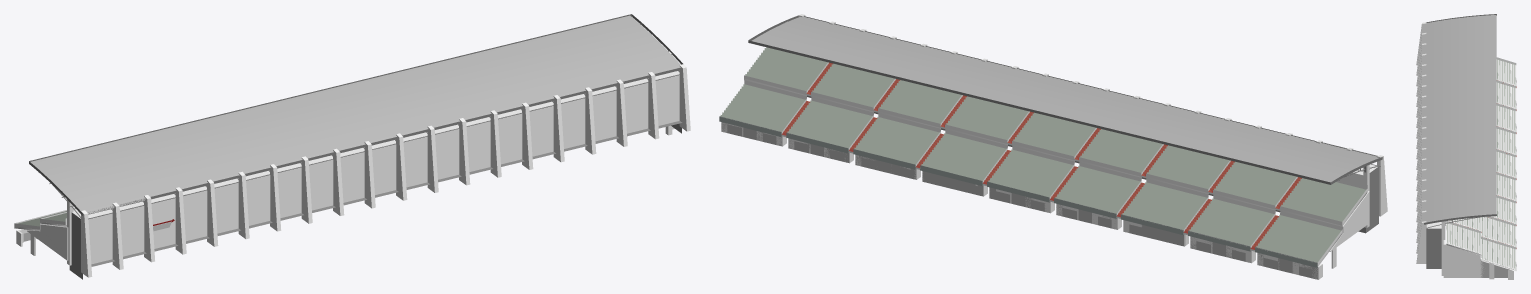
File: grandstand_main.dae
3 renders of one model, left to right at view 1: azimuth 30°, elevation 25°; view 2: azimuth 150°, elevation 25°; view 3: azimuth 270°, elevation 25°, orthographic. The views are drawn at different scales.
Visible parts, largest first — view 1: grandstand_main_a1000, grandstand_main_a2000; view 2: grandstand_main_a1000, grandstand_main_a2000, grandstand_main_a500; view 3: grandstand_main_a1000, grandstand_main_a2000, grandstand_main_a500.
Part boxes in pixels (<box>): grandstand_main_a1000: <box>14,14,690,279</box>; grandstand_main_a2000: <box>18,15,682,266</box>; grandstand_main_a1000: <box>719,14,1387,279</box>; grandstand_main_a2000: <box>721,16,1382,268</box>; grandstand_main_a500: <box>719,116,1317,279</box>; grandstand_main_a1000: <box>1416,14,1516,279</box>; grandstand_main_a2000: <box>1425,14,1516,279</box>; grandstand_main_a500: <box>1480,259,1512,277</box>.
Bounding box in the file's own units: 197 × 40.42 × 27.84.
